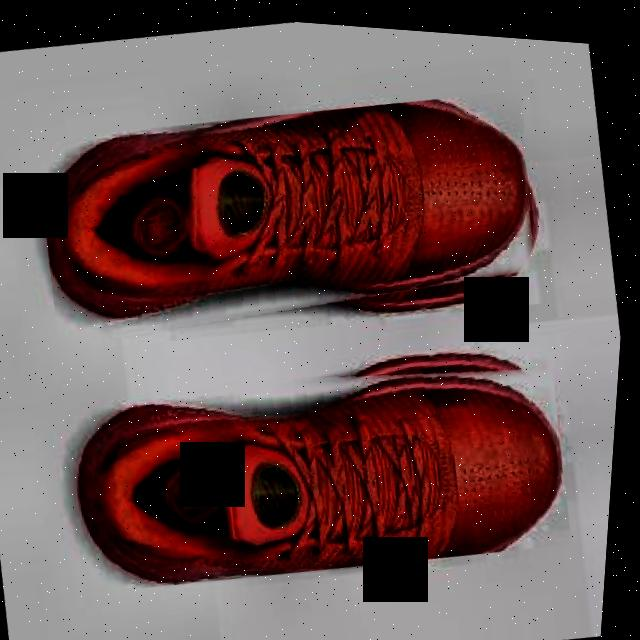shoe: (54, 301, 589, 620), (27, 54, 559, 374)
